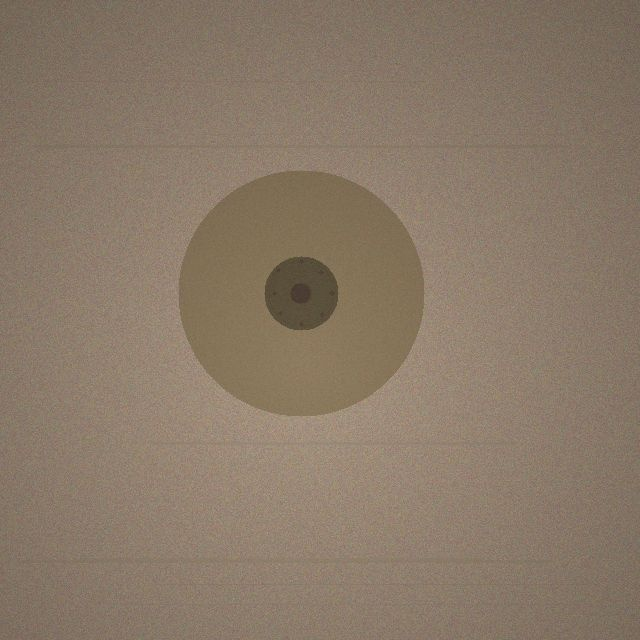cold_weld: (178, 170, 424, 416)
